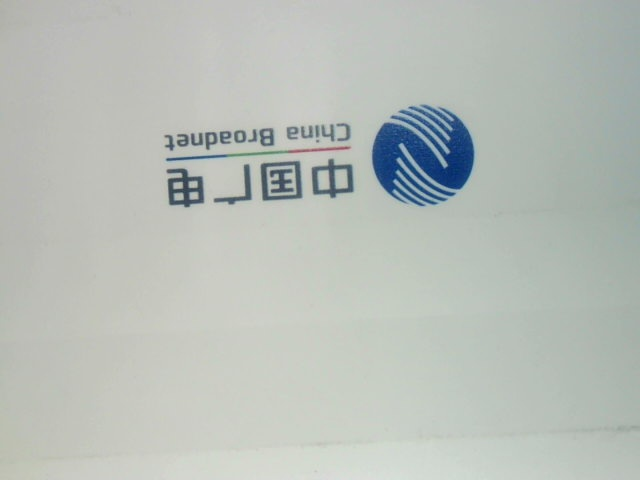AW_ChinaBroadNet: (145, 77, 485, 228)
